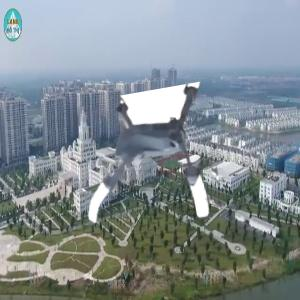drone: (73, 93, 218, 238)
